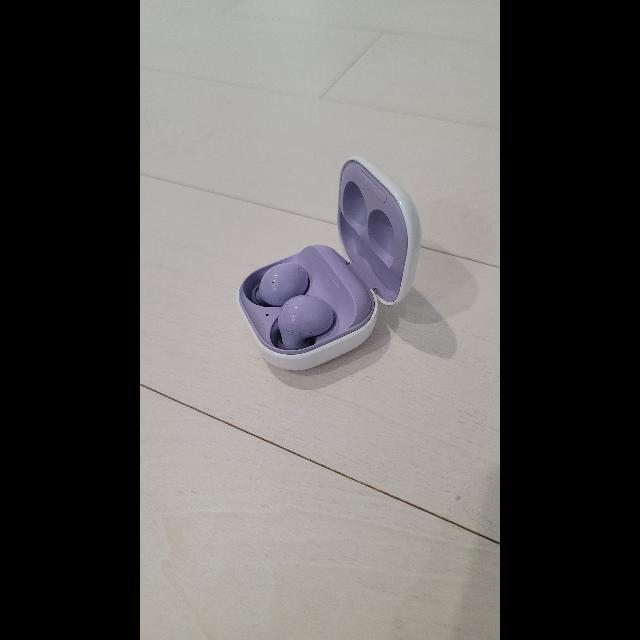GALAXY-BUDS-2: (238, 158, 421, 370)
